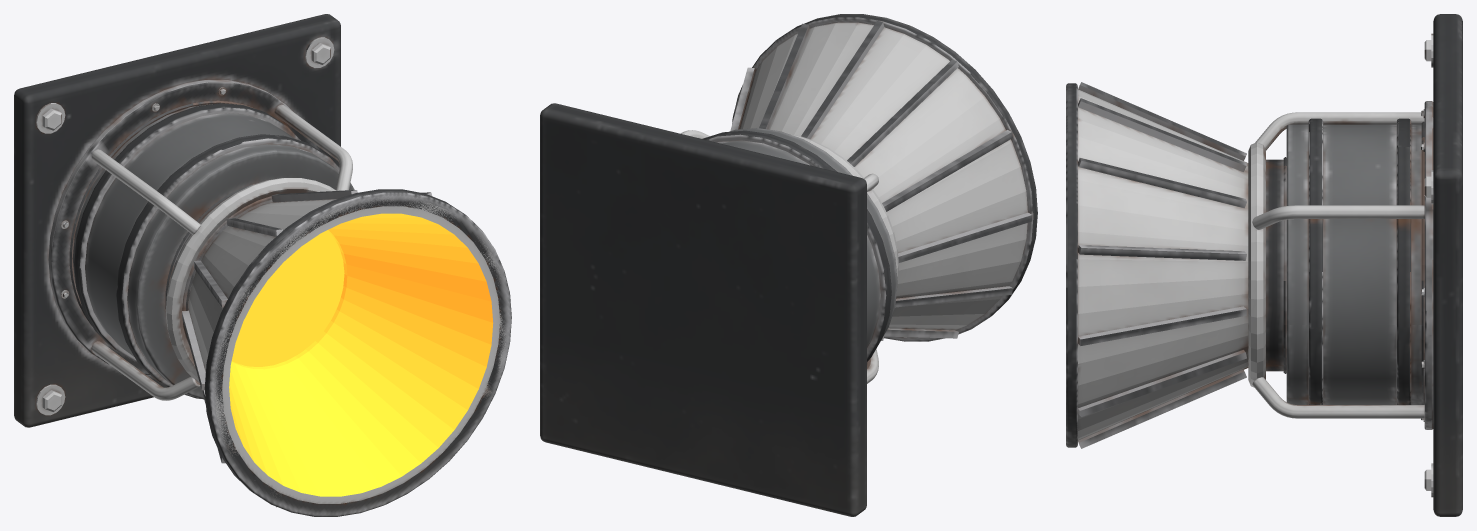
Rendered from SM_ShipThruster.glb.
3 renders of one model, left to right at view 1: azimuth 30°, elevation 25°; view 2: azimuth 150°, elevation 25°; view 3: azimuth 270°, elevation 25°, orthographic. The views are drawn at different scales.
Parts seen in each view (by area): view 1: SM_ShipThruster; view 2: SM_ShipThruster; view 3: SM_ShipThruster.
Part boxes in pixels (left/top/right/bottom): SM_ShipThruster: left=14, top=14, right=511, bottom=516; SM_ShipThruster: left=540, top=14, right=1037, bottom=516; SM_ShipThruster: left=1066, top=14, right=1462, bottom=516.
Bounding box in the file's own units: 1.3 × 1.3 × 1.35.
5 materials, 4 textured.
